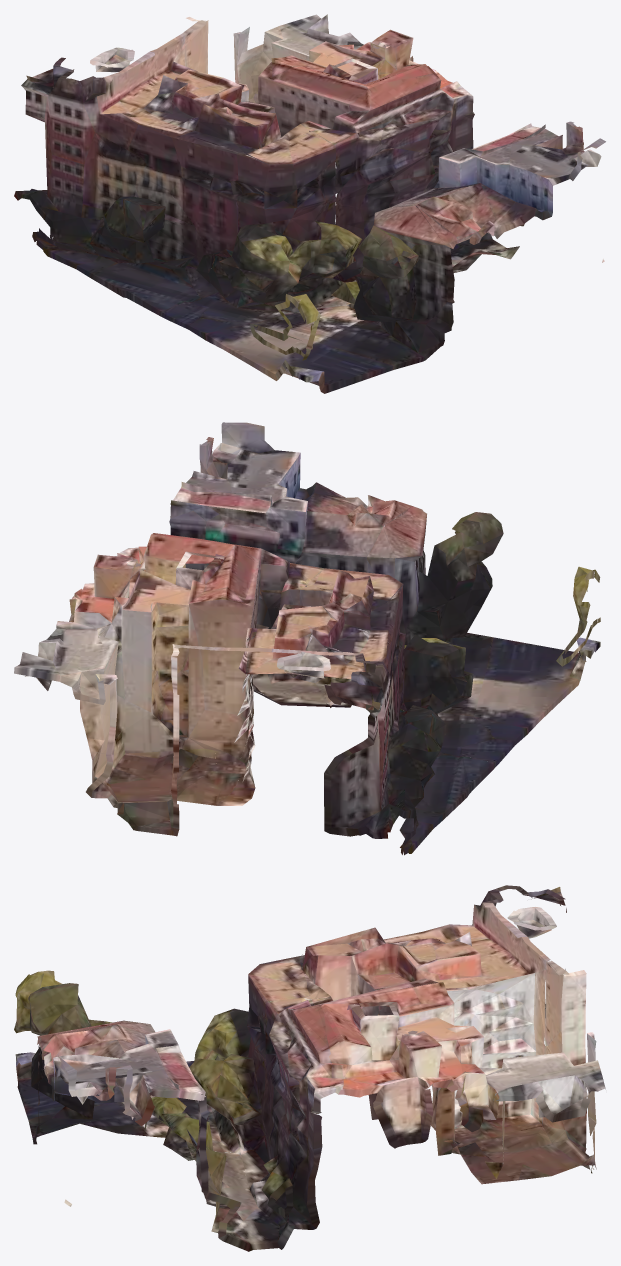
The picture shows the model from 3 angles, top to bottom: view 1: azimuth 30°, elevation 25°; view 2: azimuth 150°, elevation 25°; view 3: azimuth 270°, elevation 25°; orthographic projection. The views are drawn at different scales.
Parts seen in each view (by area): view 1: Mesh_0; view 2: Mesh_0; view 3: Mesh_0.
Part boxes in pixels (x1,y1,x2,y2): Mesh_0: (14,14,605,393); Mesh_0: (14,422,600,855); Mesh_0: (14,885,605,1251).
Bounding box in the file's own units: 66.8 × 29.21 × 82.72.
Materials: 1 (1 with a texture image).
